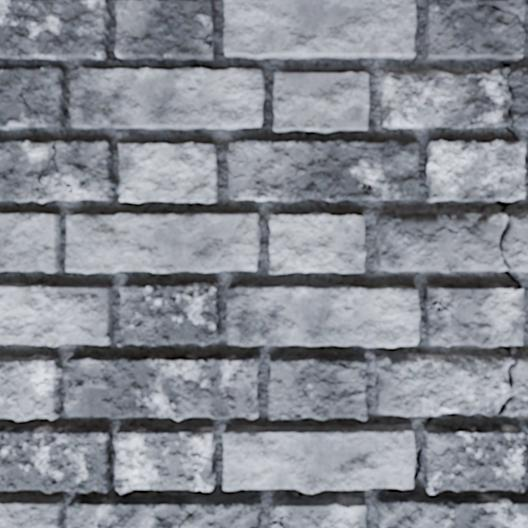brick: (0, 425, 215, 493), (223, 424, 414, 492), (64, 354, 260, 419), (70, 68, 264, 129), (226, 285, 419, 346), (227, 140, 418, 201), (66, 212, 260, 272), (224, 0, 415, 58), (0, 283, 113, 345), (0, 141, 114, 202), (0, 0, 110, 63), (423, 425, 524, 493), (268, 354, 366, 419), (118, 283, 219, 345), (424, 284, 525, 346), (66, 495, 260, 527), (426, 140, 525, 202), (425, 0, 525, 61), (115, 0, 214, 61), (119, 143, 217, 202), (269, 213, 365, 273), (273, 72, 368, 132), (375, 493, 527, 527), (0, 66, 66, 129), (0, 355, 61, 420), (0, 212, 60, 271), (269, 495, 366, 527), (0, 495, 63, 527)
broken_brick: (374, 351, 527, 417), (379, 68, 527, 130), (374, 212, 506, 273), (503, 211, 527, 272)
crack: (496, 199, 521, 288), (35, 140, 73, 193), (466, 2, 525, 29), (425, 298, 460, 325), (313, 373, 365, 386), (320, 357, 365, 371), (504, 344, 518, 385), (505, 104, 520, 141), (337, 139, 384, 150), (177, 503, 198, 527), (500, 60, 513, 97), (496, 394, 514, 414), (412, 447, 422, 480), (268, 515, 287, 527), (202, 34, 213, 51), (423, 415, 435, 426), (287, 490, 303, 498), (225, 323, 234, 330), (193, 0, 210, 3), (70, 105, 76, 112), (523, 520, 527, 527), (117, 192, 121, 198), (372, 487, 377, 490)
